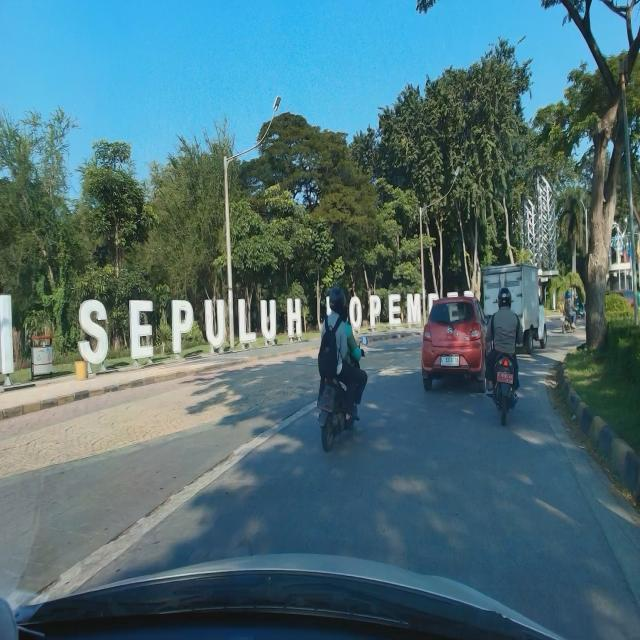car: (422, 294, 494, 391)
license-plate: (440, 355, 460, 367)
truck: (480, 260, 550, 355)
